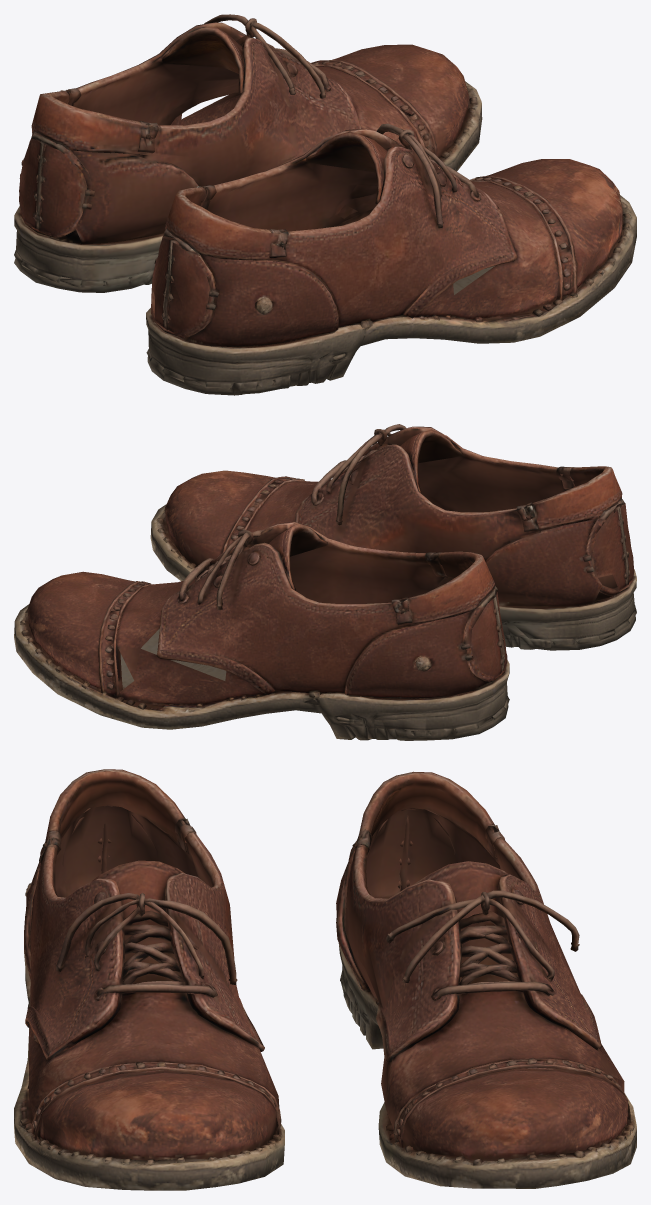
3 views of the same model, one above another, from view 1: azimuth 30°, elevation 25°; view 2: azimuth 150°, elevation 25°; view 3: azimuth 270°, elevation 25° (orthographic). The views are drawn at different scales.
Visible parts, largest first — view 1: tripo_node_d52c2fd8-01f0-4437-bb6a-b45f01675b68; view 2: tripo_node_d52c2fd8-01f0-4437-bb6a-b45f01675b68; view 3: tripo_node_d52c2fd8-01f0-4437-bb6a-b45f01675b68.
Boxes of the visible parts, x1=… form: tripo_node_d52c2fd8-01f0-4437-bb6a-b45f01675b68: x1=14, y1=14, x2=636, y2=395; tripo_node_d52c2fd8-01f0-4437-bb6a-b45f01675b68: x1=14, y1=424, x2=636, y2=740; tripo_node_d52c2fd8-01f0-4437-bb6a-b45f01675b68: x1=14, y1=769, x2=636, y2=1190.
Bounding box in the file's own units: 0.998 × 0.377 × 0.9746.
1 material, 1 textured.
